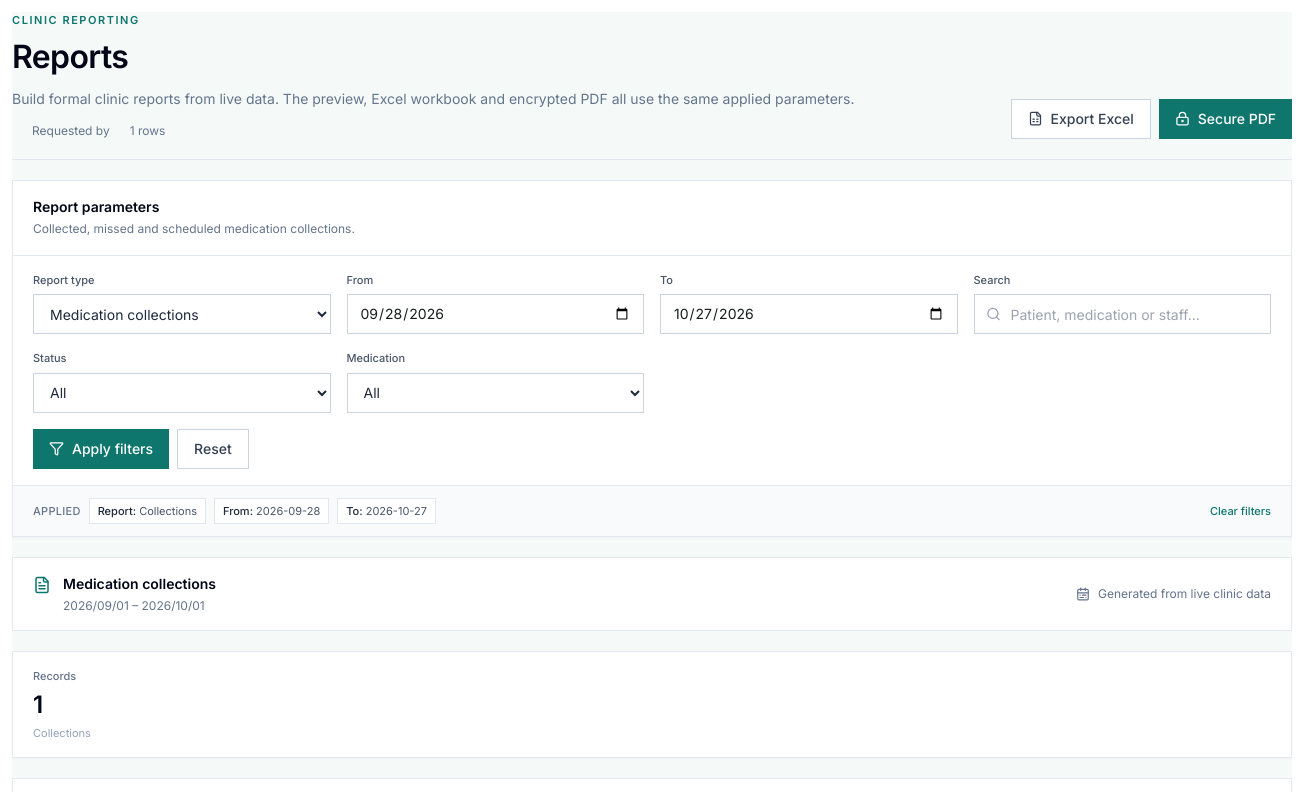
Test case: AdminReportsPage › exports Excel using the currently applied filters
This screenshot has width=1304, height=792.
Type "Alice" into the search field with placeholder "Patient, medication or staff…" at [1122, 314], box 974,294 -> 1271,334
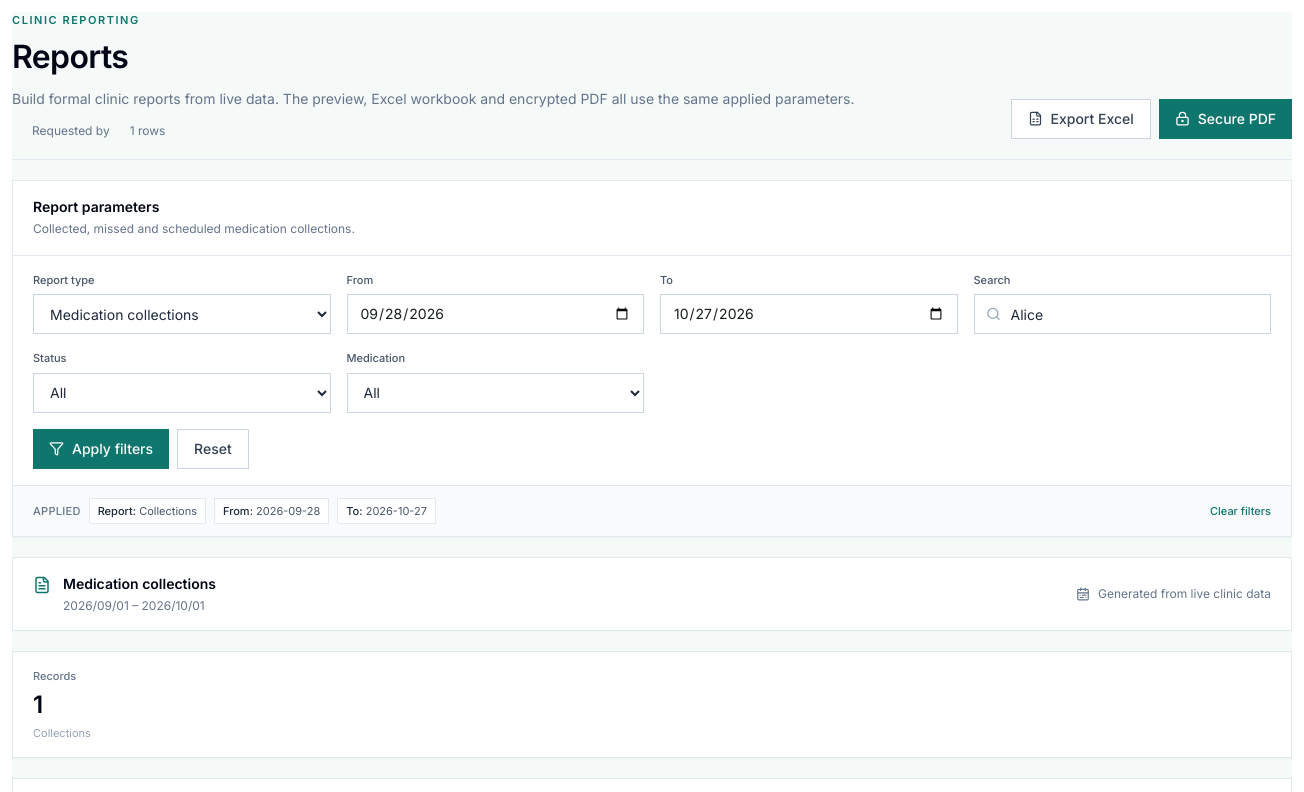
Click the button "Apply filters" at [101, 448], box 33,428 -> 169,468
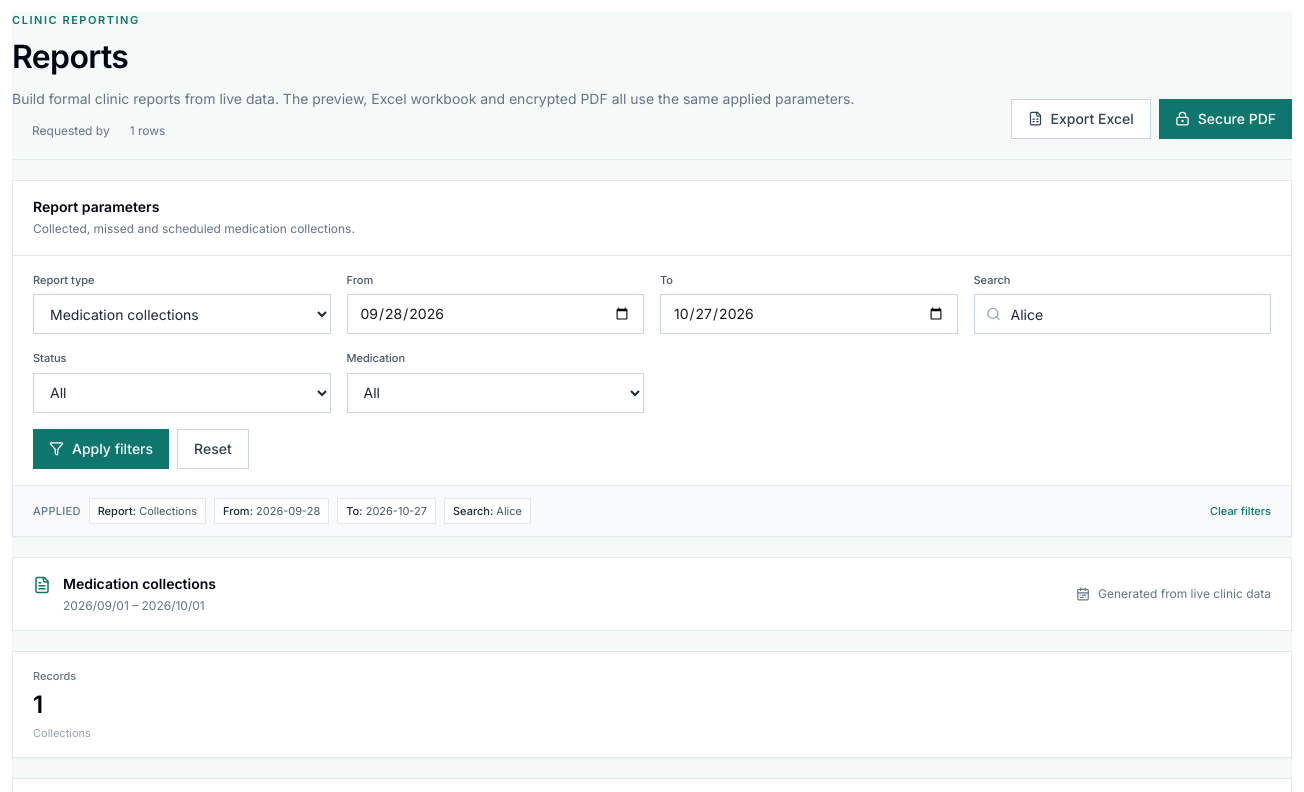
Click the button "Export Excel" at [1081, 118], box 1010,98 -> 1151,138
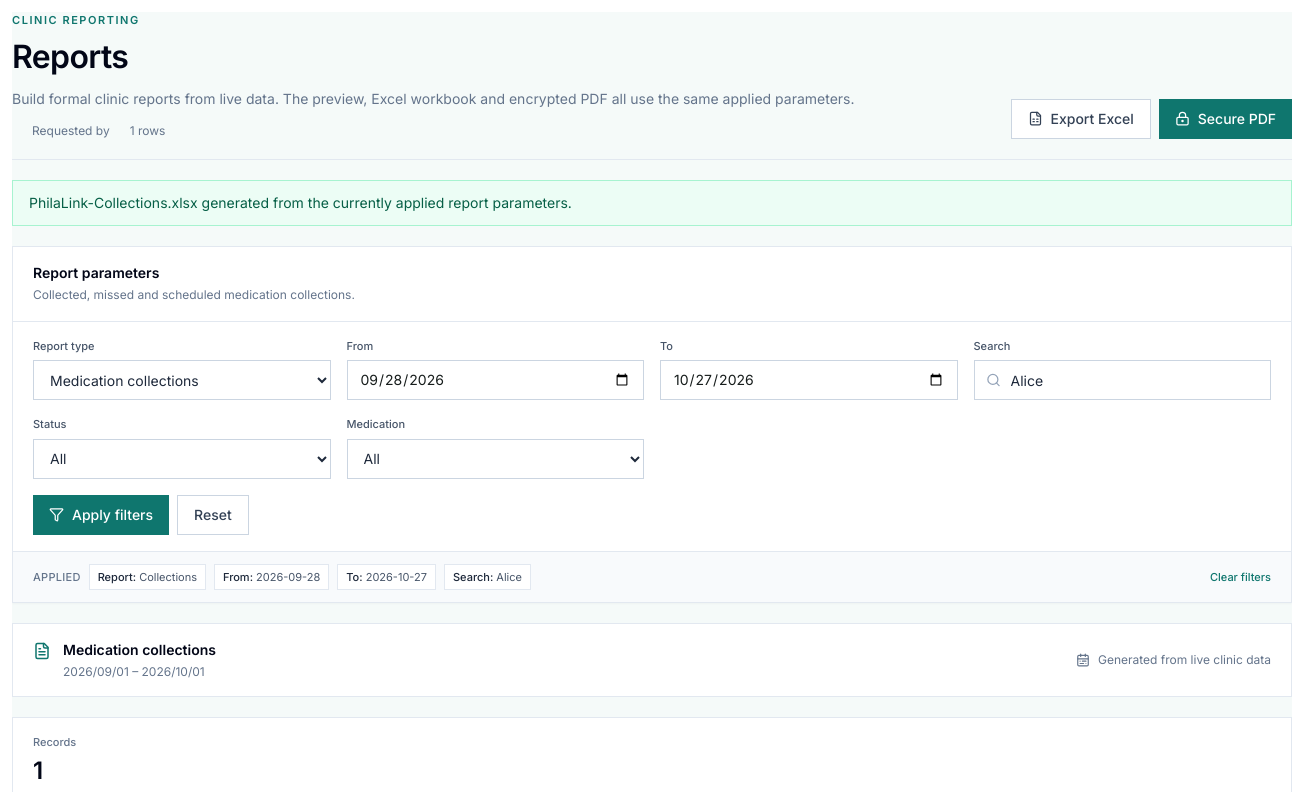
Result: the text "PhilaLink-Collections.xlsx generated" is shown at 29,194 -> 572,210
